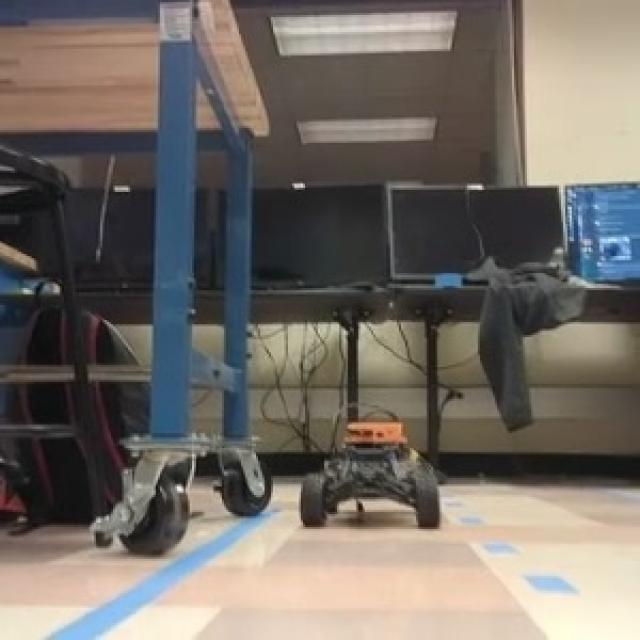obstacle: (295, 417, 444, 531)
